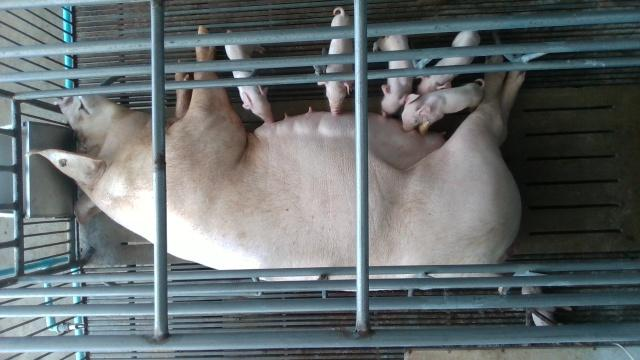piglet: (224, 28, 275, 124), (403, 76, 485, 135), (415, 30, 482, 95), (318, 8, 356, 114), (372, 34, 414, 118), (522, 286, 573, 326)
sow-sleep-lactate: (27, 27, 522, 279)
